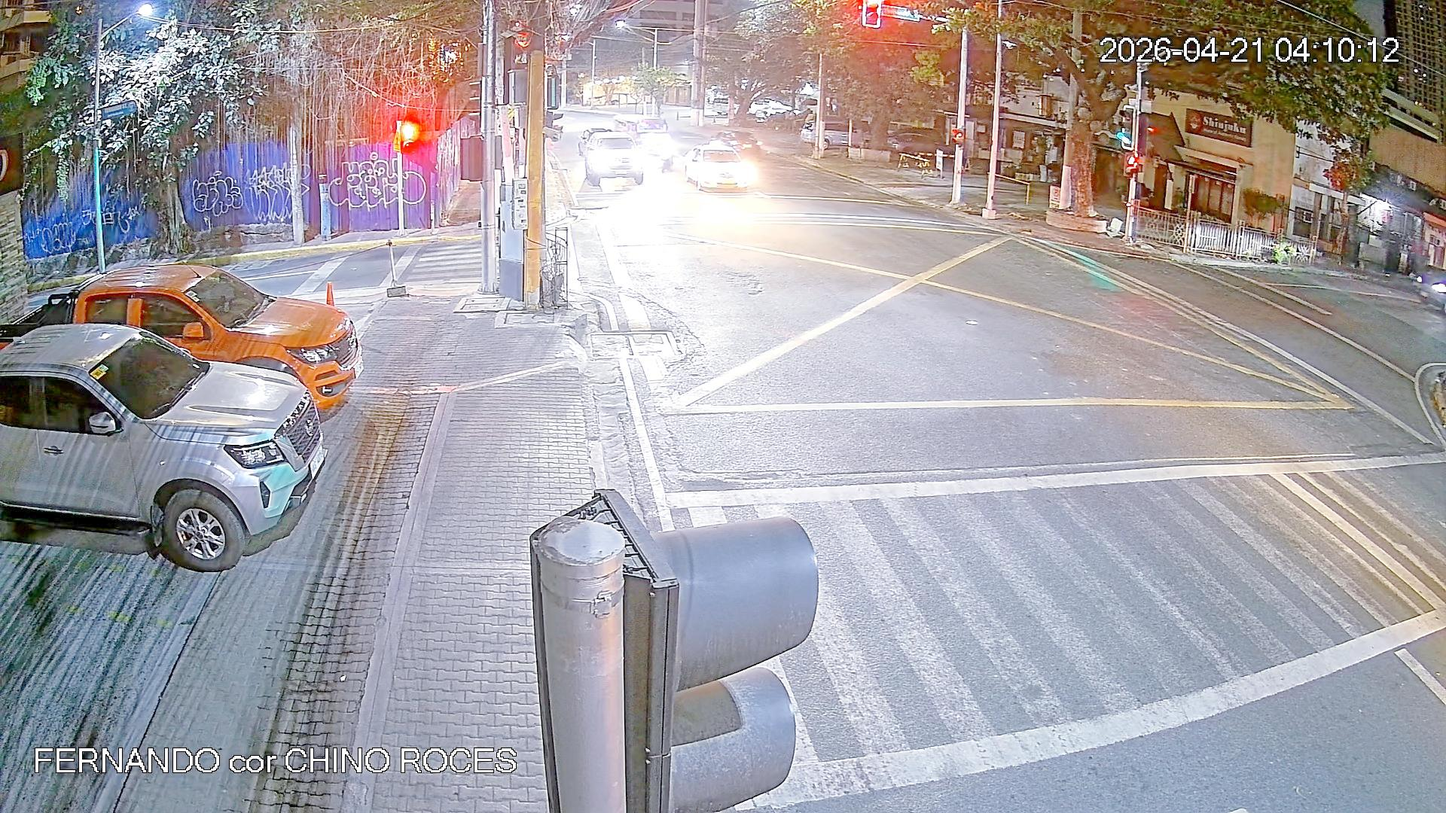Car: (3, 323, 368, 575), (69, 259, 368, 431), (687, 146, 767, 198), (586, 130, 645, 195)
